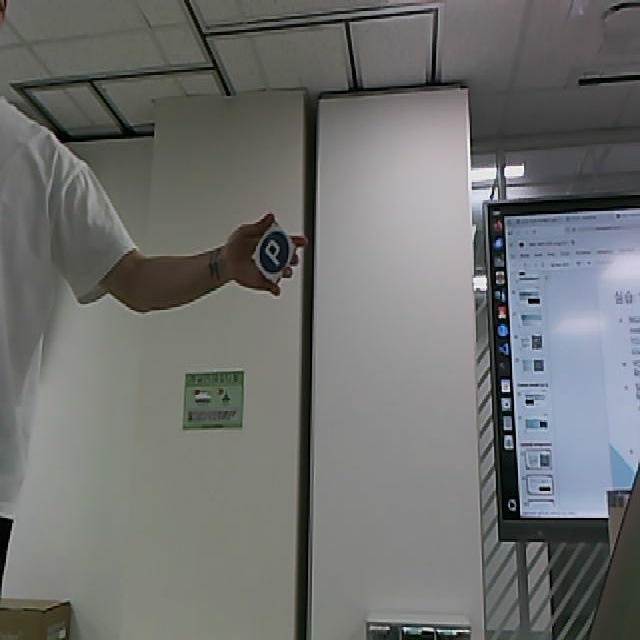parking: (251, 218, 298, 289)
